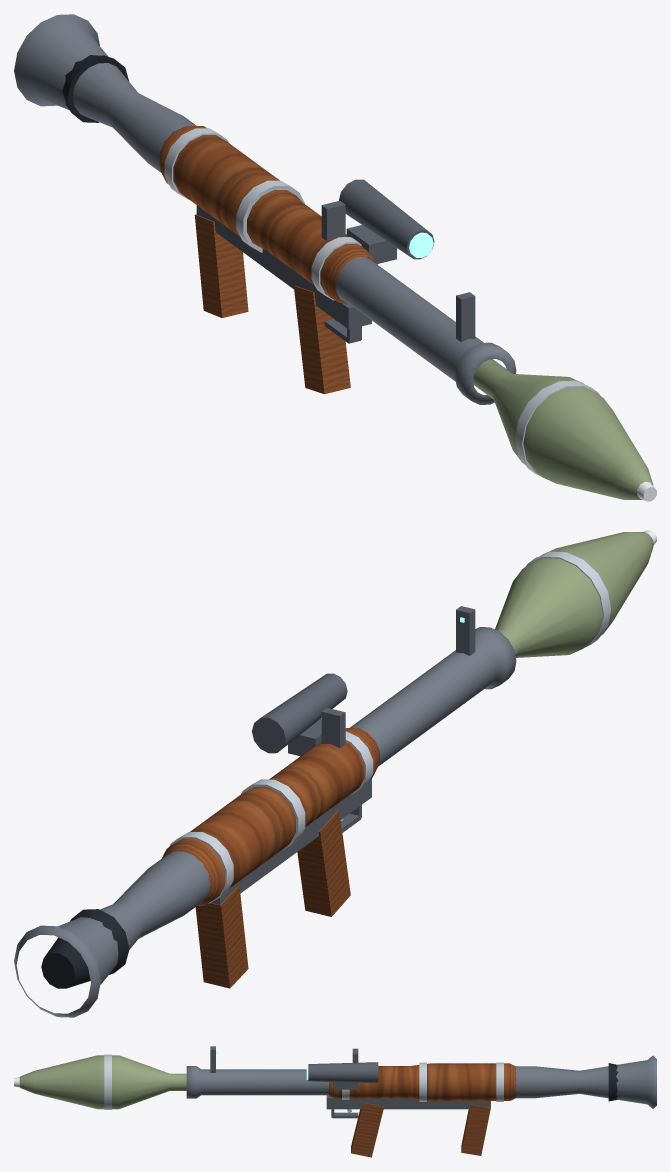
The model's file is weapon_rpg_classic.glb.
3 views of the same model, one above another, from view 1: azimuth 30°, elevation 25°; view 2: azimuth 150°, elevation 25°; view 3: azimuth 270°, elevation 25° (orthographic). The views are drawn at different scales.
Visible parts, largest first — view 1: Weapon_rpg, RPGLaunchTube, rocket; view 2: Weapon_rpg, RPGLaunchTube, rocket; view 3: Weapon_rpg, RPGLaunchTube, rocket.
Boxes of the visible parts, x1,y1,x2,y2 form: Weapon_rpg: [62, 55, 475, 394]; RPGLaunchTube: [14, 14, 516, 404]; rocket: [473, 359, 656, 501]; Weapon_rpg: [41, 606, 475, 988]; RPGLaunchTube: [14, 627, 516, 1017]; rocket: [495, 530, 656, 657]; Weapon_rpg: [210, 1046, 618, 1157]; RPGLaunchTube: [186, 1055, 656, 1108]; rocket: [14, 1054, 186, 1109].
Bounding box in the file's own units: 0.1355 × 0.2424 × 1.33.
8 materials, 1 textured.
